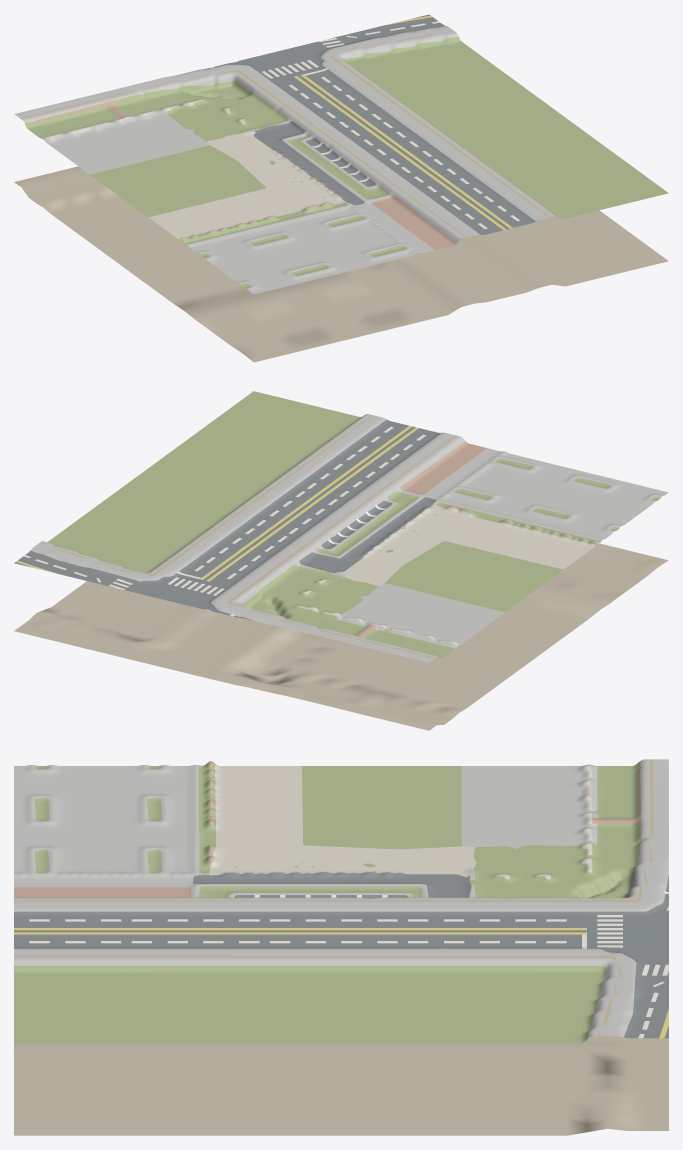
3 views of the same model, one above another, from view 1: azimuth 30°, elevation 25°; view 2: azimuth 150°, elevation 25°; view 3: azimuth 270°, elevation 25° (orthographic). The views are drawn at different scales.
Parts seen in each view (by area): view 1: s_-5_1__soil, s_-5_1__grass, s_-5_1__stone_paving, s_-5_1__asphalt, s_-5_1__paving, s_-5_1__brick_paving, s_-5_1__timber_deck, s_-5_1__white_marking, s_-5_1__yellow_marking; view 2: s_-5_1__soil, s_-5_1__grass, s_-5_1__stone_paving, s_-5_1__asphalt, s_-5_1__paving, s_-5_1__brick_paving, s_-5_1__timber_deck, s_-5_1__white_marking, s_-5_1__yellow_marking; view 3: s_-5_1__grass, s_-5_1__soil, s_-5_1__stone_paving, s_-5_1__asphalt, s_-5_1__paving, s_-5_1__yellow_marking, s_-5_1__white_marking, s_-5_1__timber_deck, s_-5_1__brick_paving.
Boxes of the visible parts, x1,y1,x2,y2 form: s_-5_1__soil: [14, 129, 668, 362]; s_-5_1__grass: [25, 37, 668, 288]; s_-5_1__stone_paving: [14, 26, 556, 294]; s_-5_1__asphalt: [190, 14, 535, 234]; s_-5_1__paving: [44, 99, 345, 239]; s_-5_1__brick_paving: [25, 96, 456, 250]; s_-5_1__timber_deck: [20, 31, 549, 237]; s_-5_1__white_marking: [210, 21, 519, 229]; s_-5_1__yellow_marking: [294, 15, 512, 230]; s_-5_1__soil: [14, 508, 668, 730]; s_-5_1__grass: [47, 391, 660, 657]; s_-5_1__stone_paving: [31, 414, 668, 662]; s_-5_1__asphalt: [14, 419, 441, 621]; s_-5_1__paving: [296, 504, 595, 644]; s_-5_1__brick_paving: [355, 441, 596, 637]; s_-5_1__timber_deck: [39, 415, 456, 658]; s_-5_1__white_marking: [23, 426, 425, 616]; s_-5_1__yellow_marking: [16, 425, 418, 581]; s_-5_1__grass: [14, 762, 641, 1042]; s_-5_1__soil: [14, 872, 668, 1135]; s_-5_1__stone_paving: [14, 759, 668, 1038]; s_-5_1__asphalt: [14, 872, 668, 1038]; s_-5_1__paving: [209, 764, 592, 879]; s_-5_1__yellow_marking: [14, 928, 668, 1038]; s_-5_1__white_marking: [29, 891, 668, 1038]; s_-5_1__timber_deck: [14, 759, 657, 1035]; s_-5_1__brick_paving: [14, 761, 641, 897].
Bounding box in the file's own units: 128 × 22.89 × 128.
